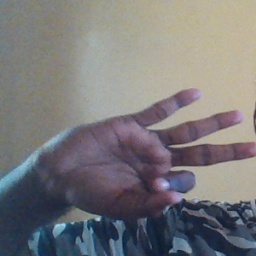K: (21, 86, 256, 223)
